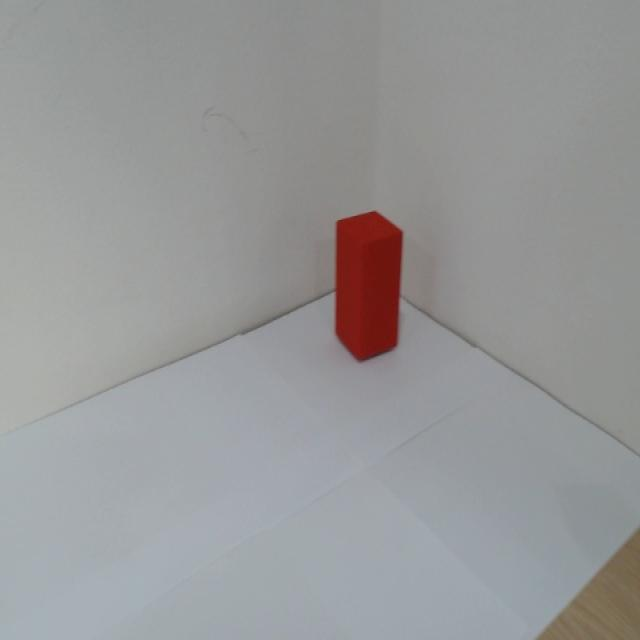cube: (330, 205, 406, 367)
